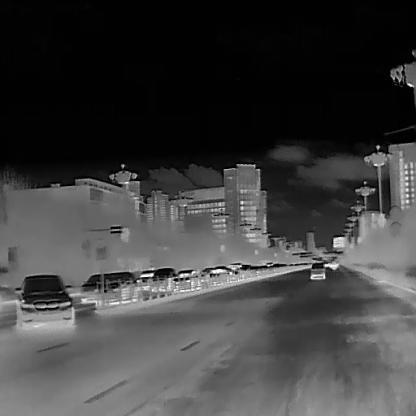car: (14, 274, 74, 331), (81, 270, 136, 304), (150, 267, 179, 292), (133, 269, 157, 291), (174, 268, 198, 290), (206, 265, 231, 284), (310, 262, 326, 280), (228, 263, 242, 280)
